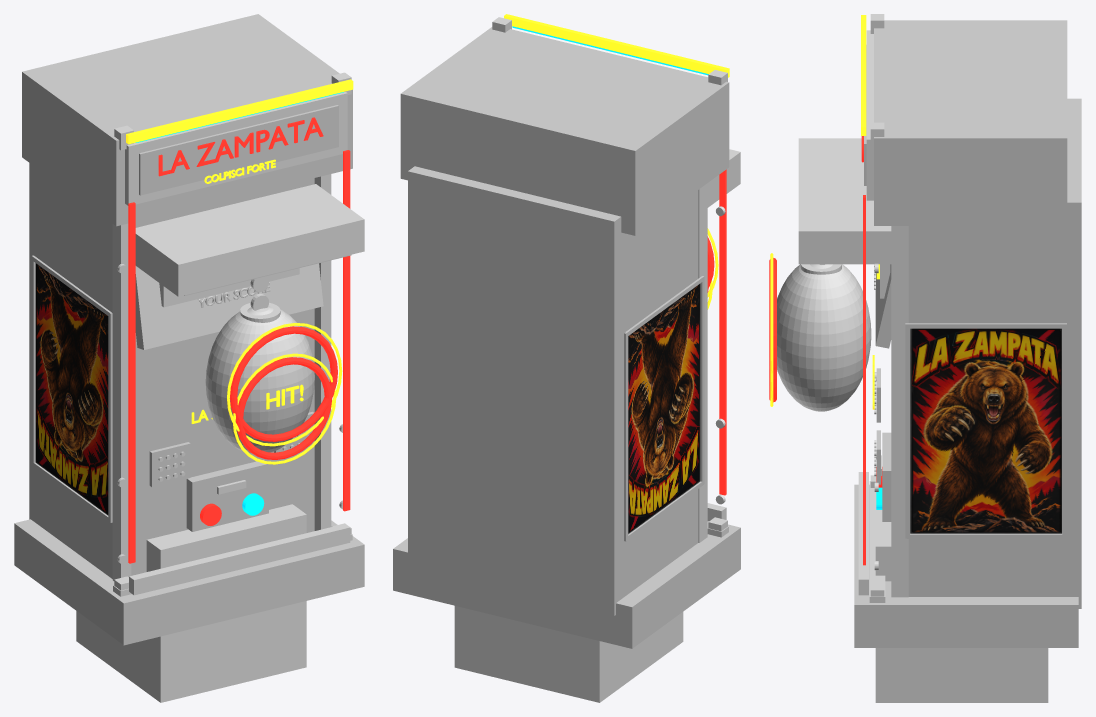
File: punchmachine-BAqD2yp2.glb
3 renders of one model, left to right at view 1: azimuth 30°, elevation 25°; view 2: azimuth 150°, elevation 25°; view 3: azimuth 270°, elevation 25°, orthographic. The views are drawn at different scales.
Parts seen in each view (by area): view 1: Top marquee cabinet, Main cabinet, Cube, Machine base, Punching canopy, La Zampata side artwork left, Punching bag, Marquee black inset, Score front panel, Left red edge, Marquee red frame, Lower protective bumper (+14 smaller); view 2: Main cabinet, Top marquee cabinet, La Zampata side artwork left, Machine base, Cube, Vertical neon strip, Marquee crown, Left red edge, Side art left rear frame, Side art left front frame, Punching canopy; view 3: Top marquee cabinet, Main cabinet, La Zampata side artwork right, Machine base, Punching bag, Cube, Punching canopy, Right red edge, Marquee red frame, Vertical neon strip.001, Lower protective bumper, Side art right front frame (+8 smaller).
Boxes of the visible parts, x1,y1,x2,y2 form: Top marquee cabinet: (22,14,352,226); Main cabinet: (29,163,314,578); Cube: (76,504,306,702); Machine base: (14,519,364,645); Punching canopy: (135,184,364,296); La Zampata side artwork left: (35,263,108,515); Punching bag: (205,306,314,454); Marquee black inset: (139,105,338,195); Score front panel: (135,263,323,349); Left red edge: (112,223,131,580); Marquee red frame: (125,92,347,205); Lower protective bumper: (129,524,350,595); Main cabinet: (408,166,698,615); Top marquee cabinet: (400,27,729,235); La Zampata side artwork left: (628,284,700,533); Machine base: (393,524,740,648); Cube: (454,606,683,702); Vertical neon strip: (719,169,726,495); Marquee crown: (504,14,729,77); Left red edge: (698,183,707,542); Side art left rear frame: (624,332,628,541); Side art left front frame: (700,276,704,485); Punching canopy: (707,149,740,207); Top marquee cabinet: (874,20,1067,225); Main cabinet: (908,98,1081,608); La Zampata side artwork right: (910,328,1061,533); Machine base: (854,484,1078,647); Punching bag: (777,264,871,411); Cube: (875,476,1048,702); Punching canopy: (798,138,891,264); Right red edge: (891,226,908,597); Marquee red frame: (866,30,873,200); Vertical neon strip.001: (863,195,865,565); Lower protective bumper: (858,472,868,595); Side art right front frame: (905,323,909,538).
Size of what is drawn, in the model's own units: 3.3 by 7.61 by 3.62.
Materials: 10 (1 with a texture image).
